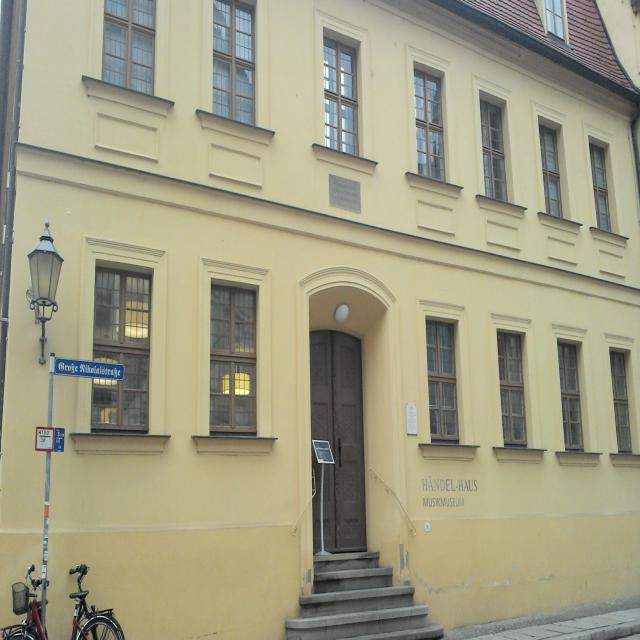AVOID: (284, 552, 441, 640)
